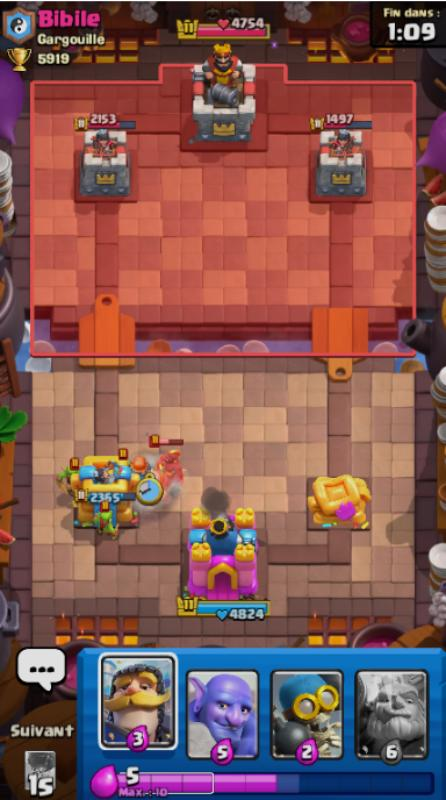gobelin: (56, 461, 83, 498), (91, 505, 118, 540)
valkyrie: (124, 446, 158, 490)
